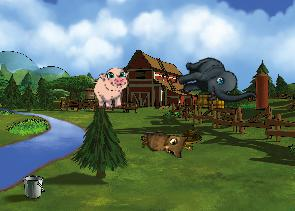elephant: (173, 45, 257, 120)
owl: (140, 130, 188, 161)
pig: (91, 67, 131, 111)
